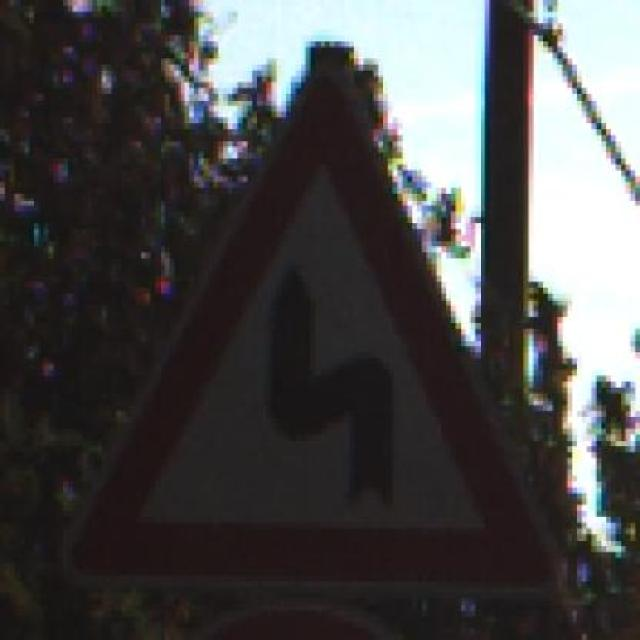Left Zig Zag Traffic: (39, 35, 572, 599)
